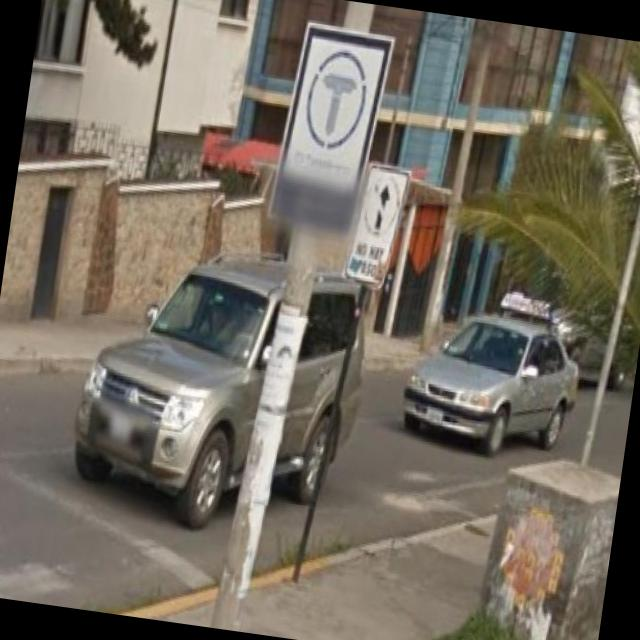car: (74, 243, 368, 543), (403, 288, 590, 472)
